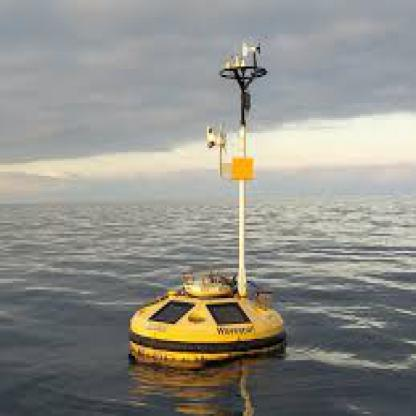buoy: (124, 30, 290, 375)
